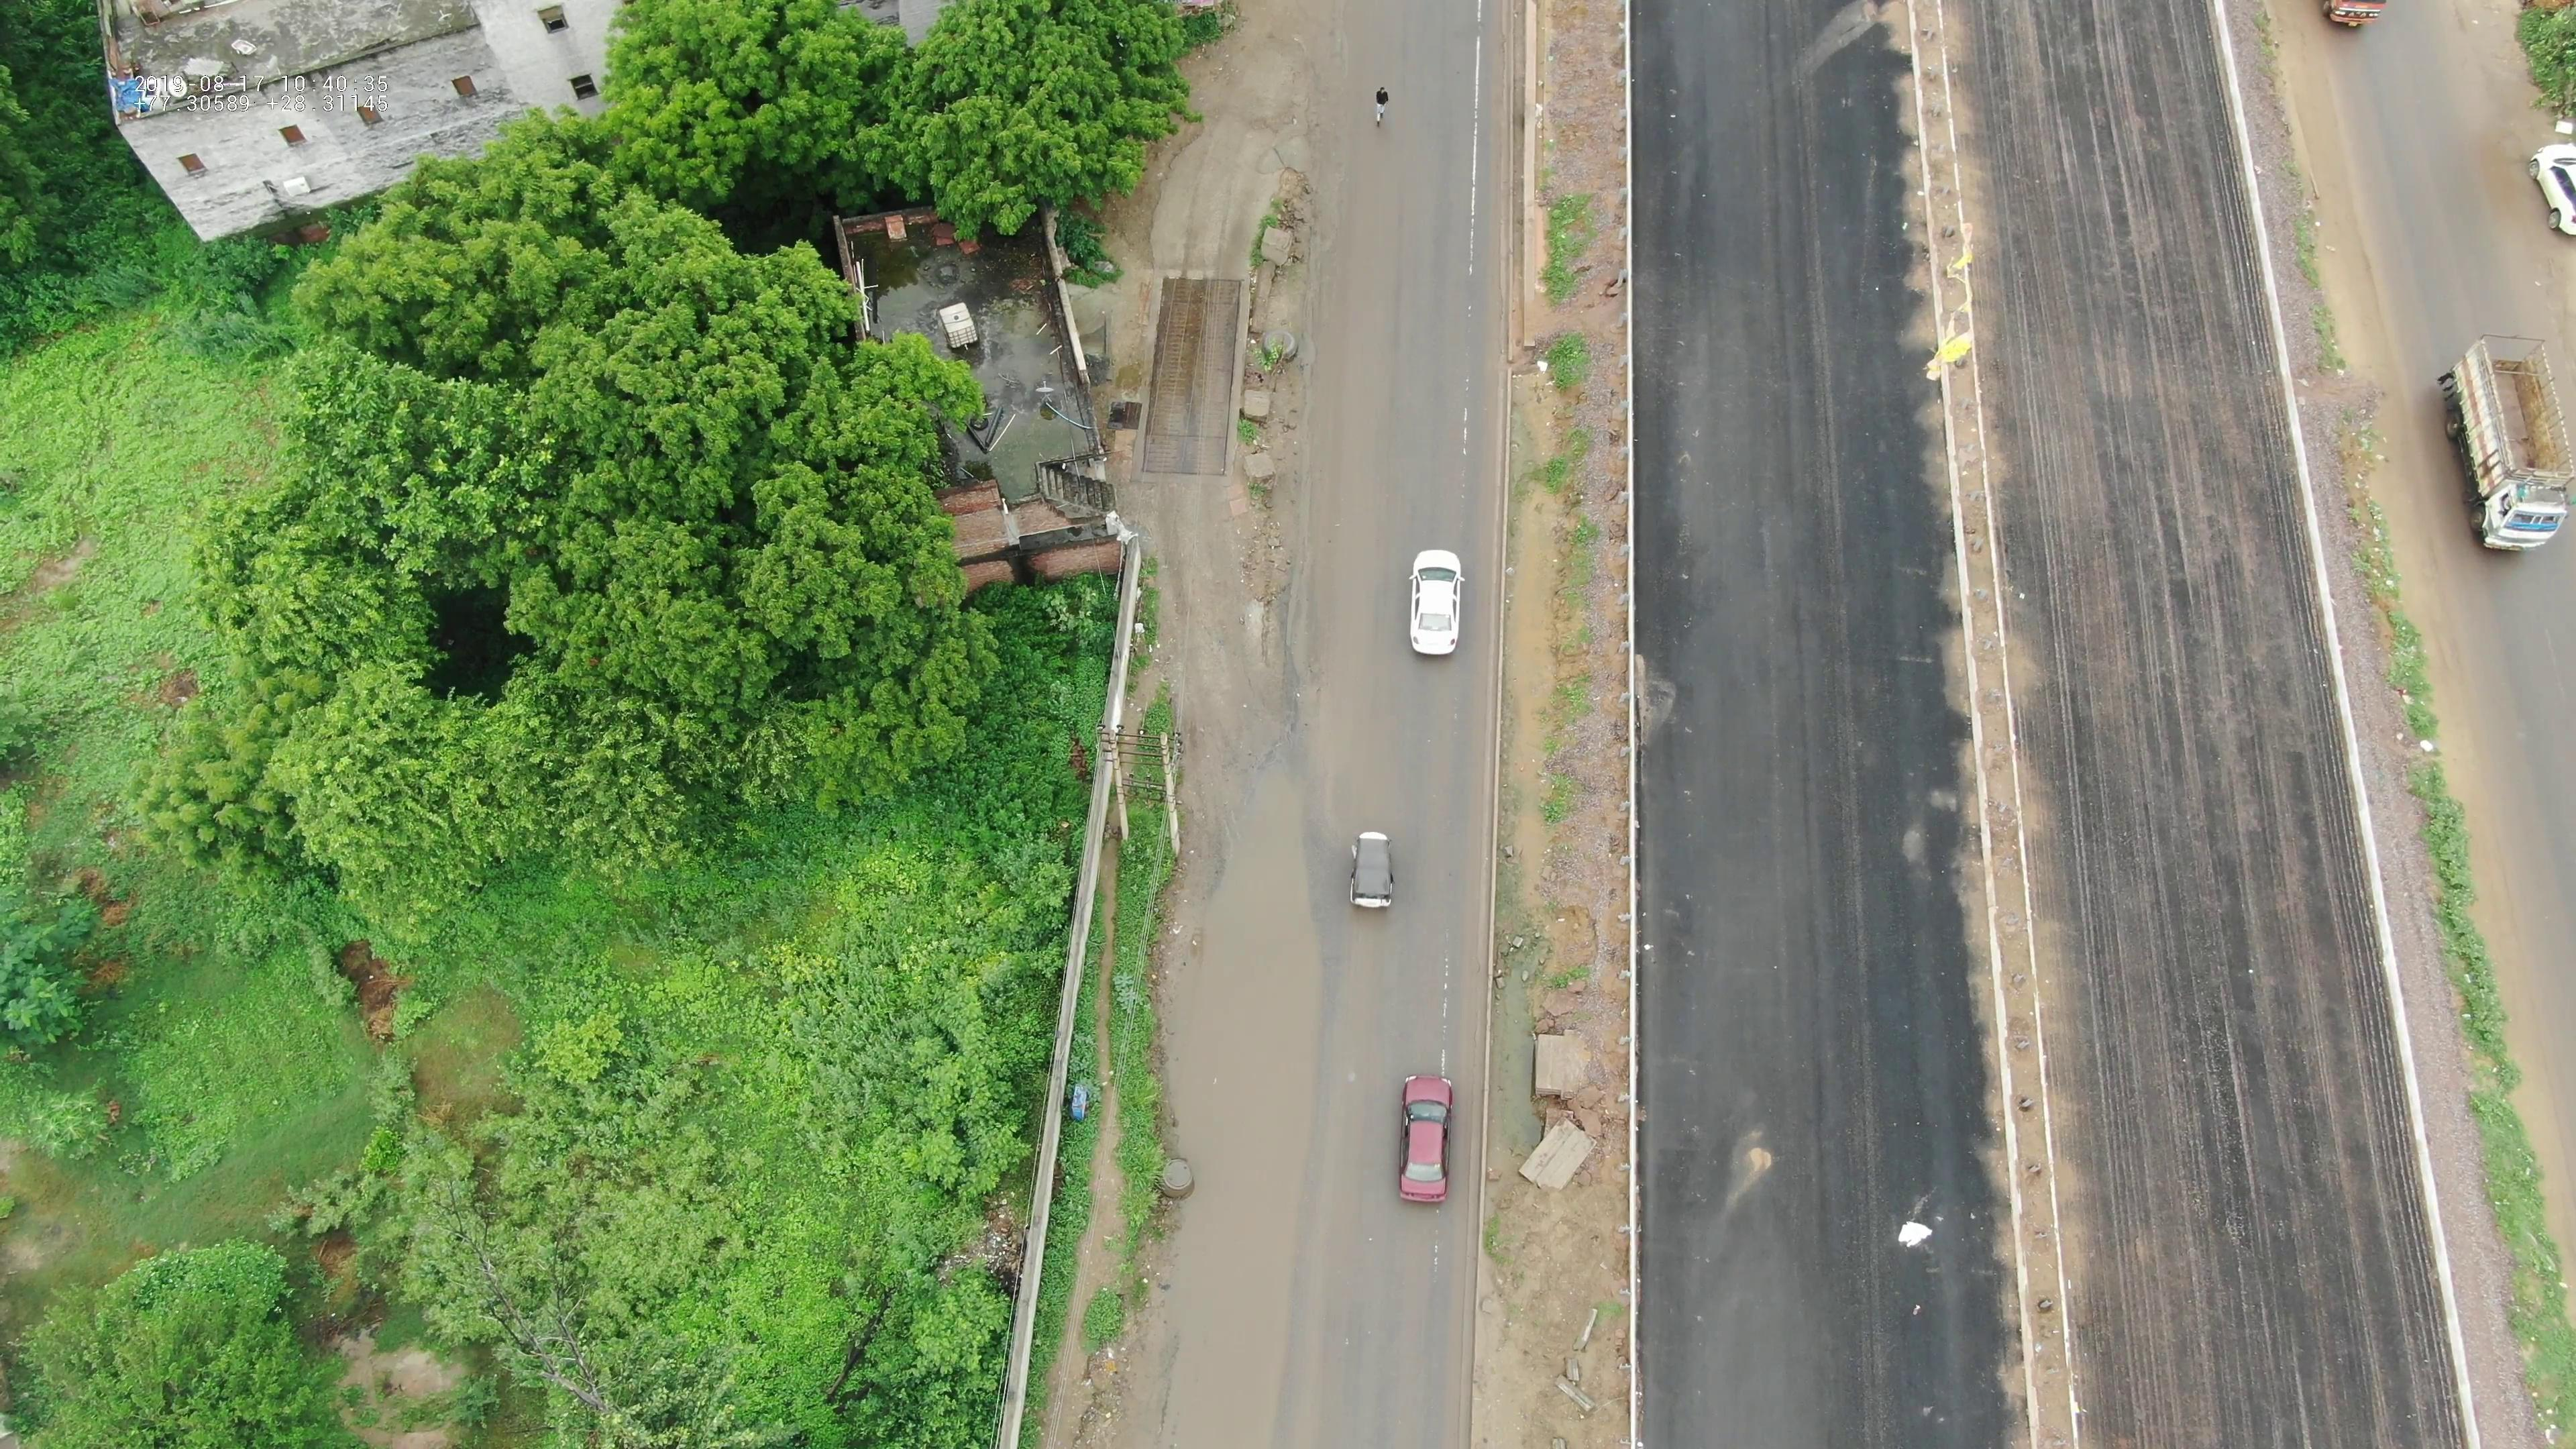Waterlogging: (1116, 764, 1332, 1433)
